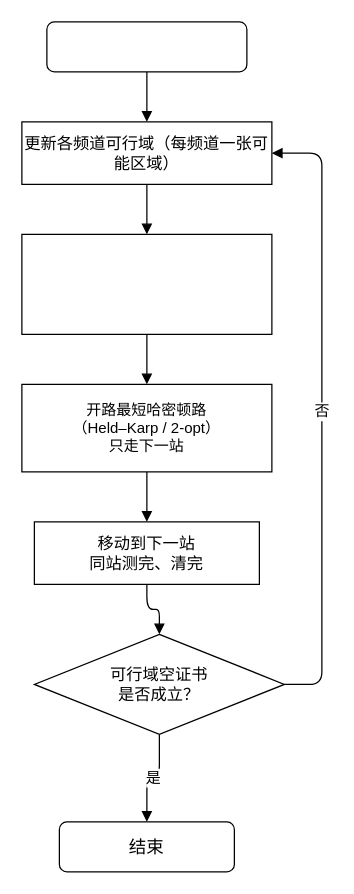
The diagram is 354 pixels wide and 894 high, and some of its shapes have lost their labels. The shapes that lost their labels are listed below. From the top down, each one's centre as x and y in pixels, then its label:
(146,46): 机器狗当前点
(146,283): 生成三类任务 ① 能清（MEC≤20） ② 补测（单楔形/区域太大） ③ 听洞（未覆盖点）
